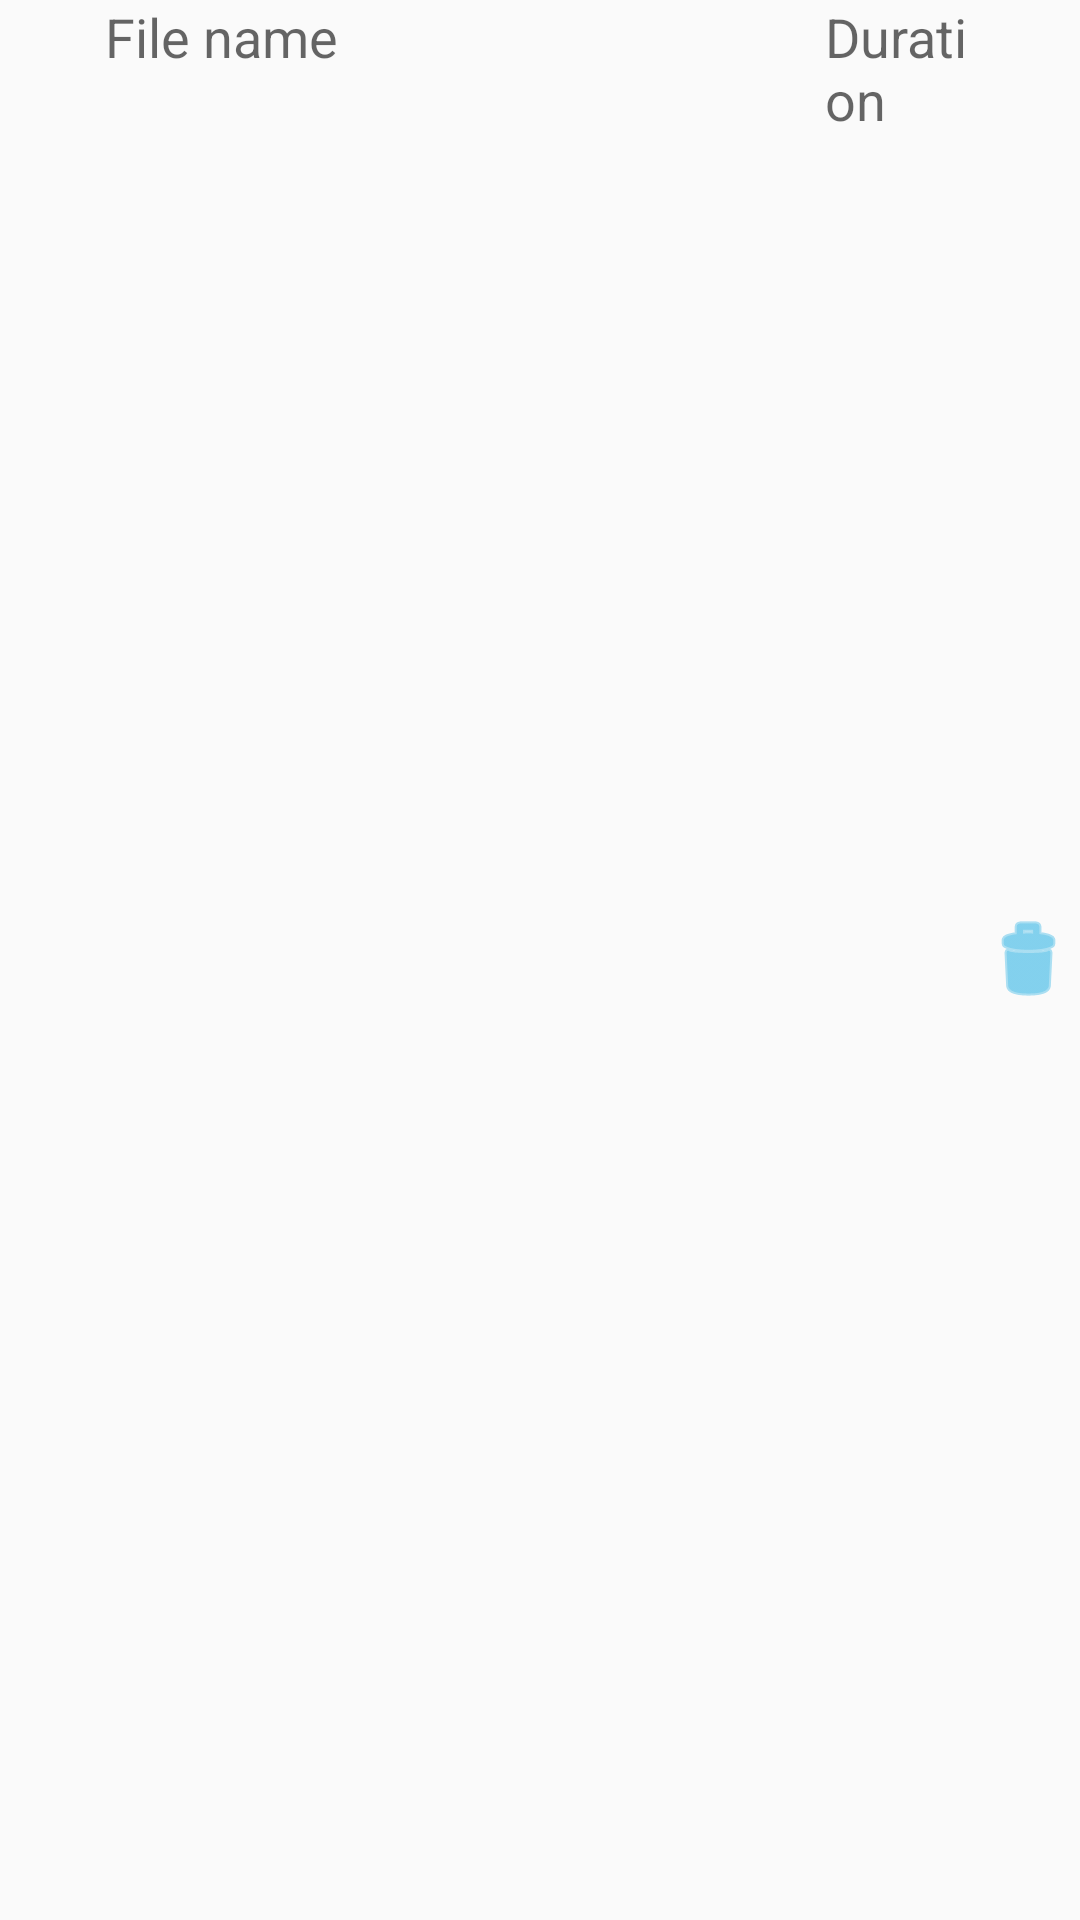

Icon bounding boxes for this 1080×1920 phone screenshot, format region(x1, y1, x2, y2):
Remove from playlist: region(1001, 921, 1056, 996)
